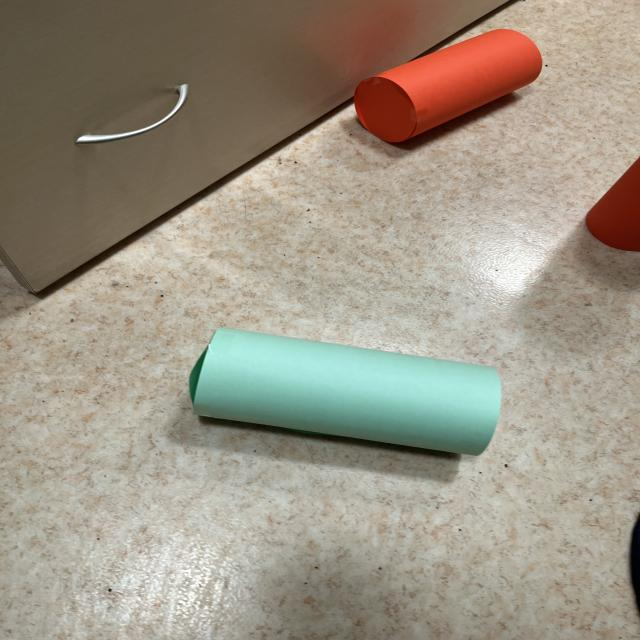meta: (189, 328, 501, 455)
przeszkoda: (354, 29, 542, 143), (586, 158, 640, 251)
